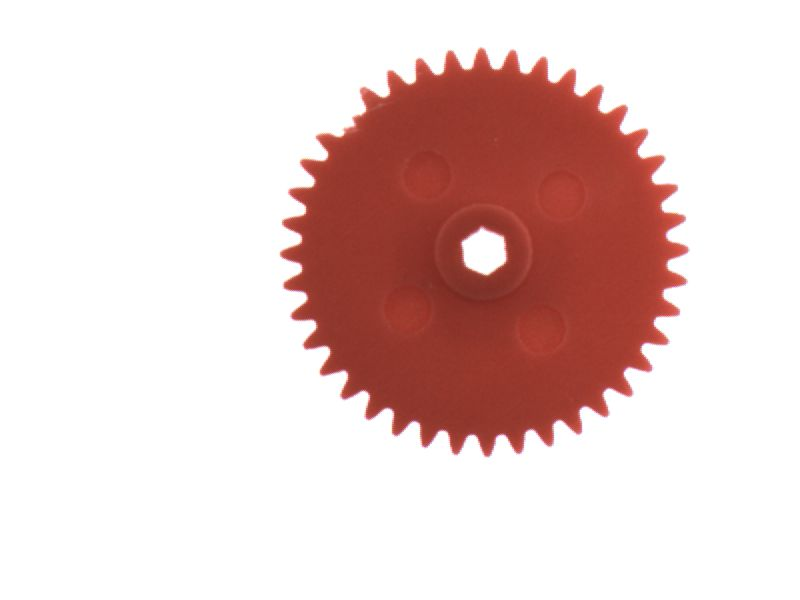defect_lack: (317, 88, 378, 144)
